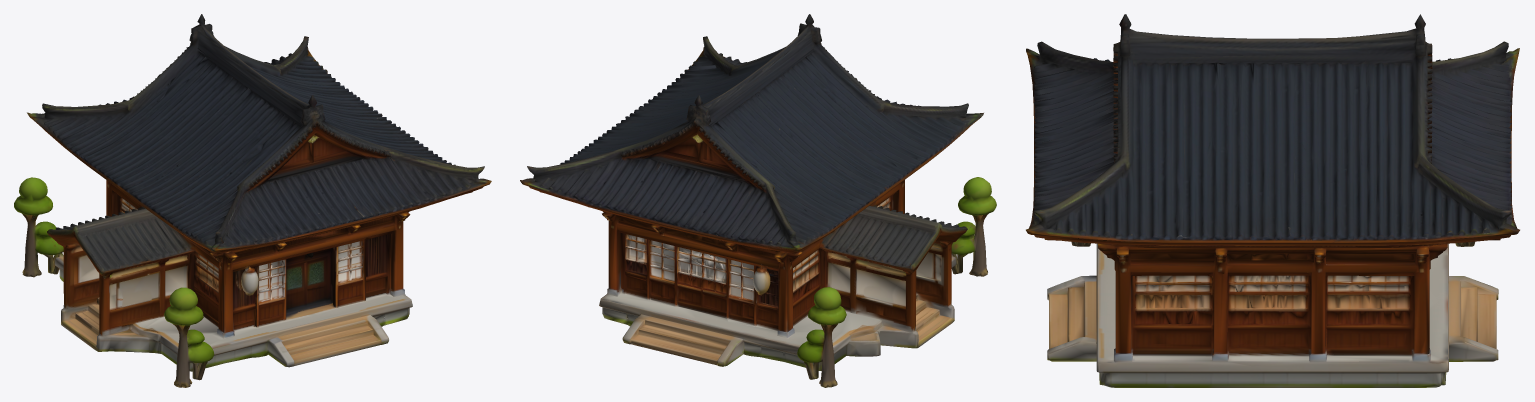
File: zen_dojo_environment_model_fbx.fbx
The picture shows the model from 3 angles, left to right: view 1: azimuth 30°, elevation 25°; view 2: azimuth 150°, elevation 25°; view 3: azimuth 270°, elevation 25°; orthographic projection. The views are drawn at different scales.
Visible parts, largest first — view 1: mesh_4ca3; view 2: mesh_4ca3; view 3: mesh_4ca3.
Part boxes in pixels (x1,y1,x2,y2): mesh_4ca3: [14, 14, 491, 387]; mesh_4ca3: [520, 14, 996, 387]; mesh_4ca3: [1026, 14, 1519, 387].
Bounding box in the file's own units: 1.72 × 1.2 × 1.69.
1 material, 1 textured.
